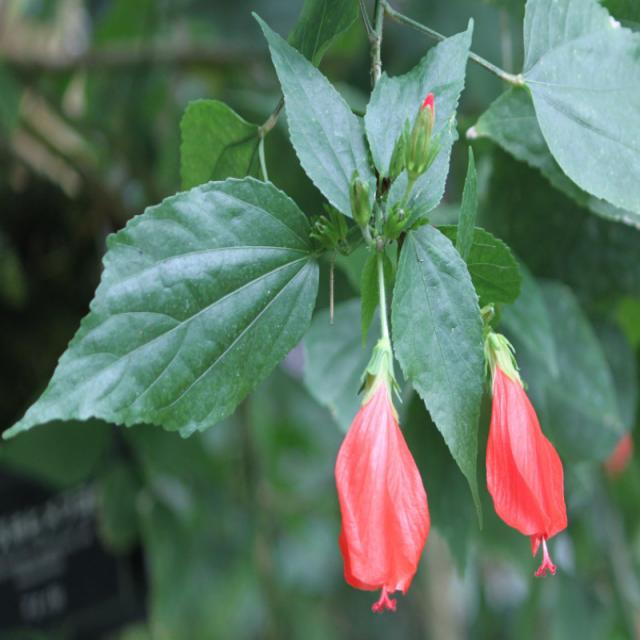Flower: (332, 340, 439, 619), (476, 321, 573, 587)
